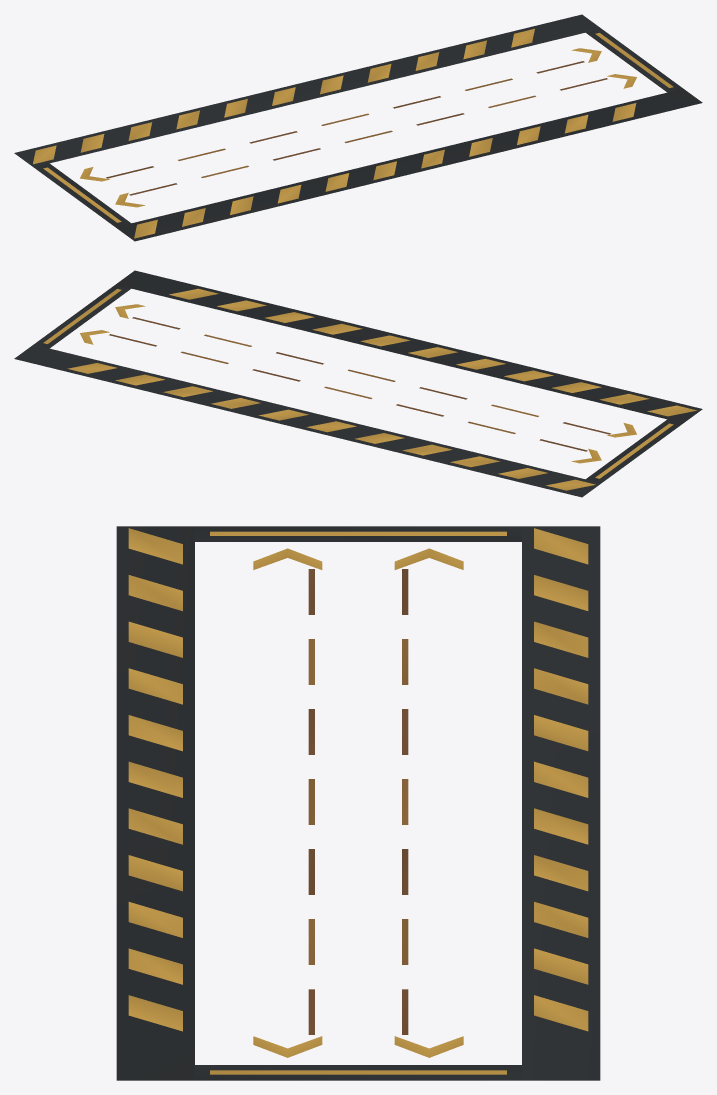
File: e11d-c3-overtime-tape.glb
3 renders of one model, top to bottom at view 1: azimuth 30°, elevation 25°; view 2: azimuth 150°, elevation 25°; view 3: azimuth 270°, elevation 25°, orthographic. The views are drawn at different scales.
Parts seen in each view (by area): view 1: Overtime tape and boundary; view 2: Overtime tape and boundary; view 3: Overtime tape and boundary.
Boxes of the visible parts, left/top/right/bottom form: Overtime tape and boundary: left=14, top=14, right=702, bottom=241; Overtime tape and boundary: left=14, top=270, right=702, bottom=497; Overtime tape and boundary: left=116, top=526, right=600, bottom=1080.
Bounding box in the file's own units: 7.6 × 0.002 × 2.8.
